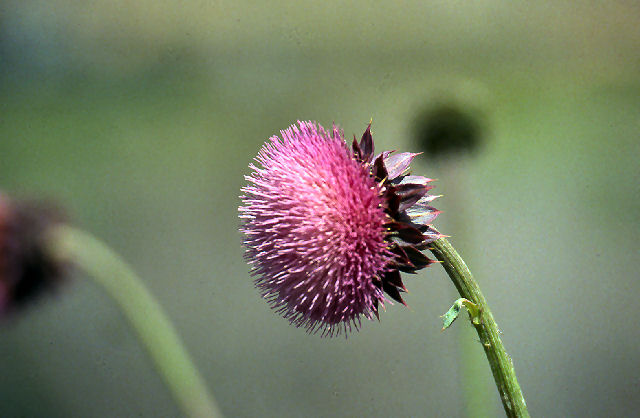thistle: (216, 112, 447, 332)
